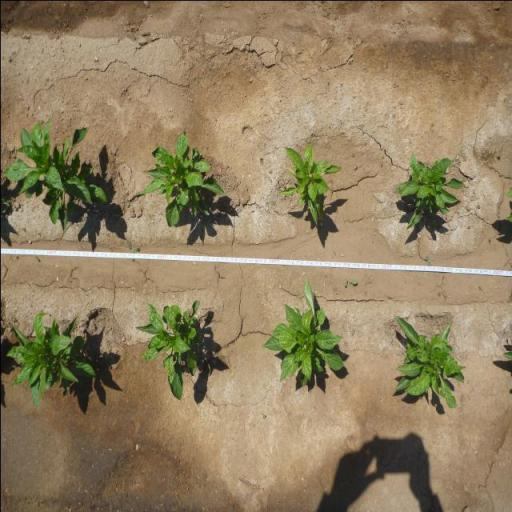plant: (7, 121, 113, 239), (0, 309, 101, 416), (133, 129, 230, 232), (260, 275, 344, 387), (388, 311, 469, 414), (132, 298, 204, 404), (392, 148, 470, 235), (272, 139, 346, 229)
weed: (0, 196, 12, 220), (124, 238, 140, 254), (342, 278, 358, 288), (422, 254, 432, 266), (33, 255, 41, 263), (477, 284, 483, 291), (487, 236, 492, 243)
